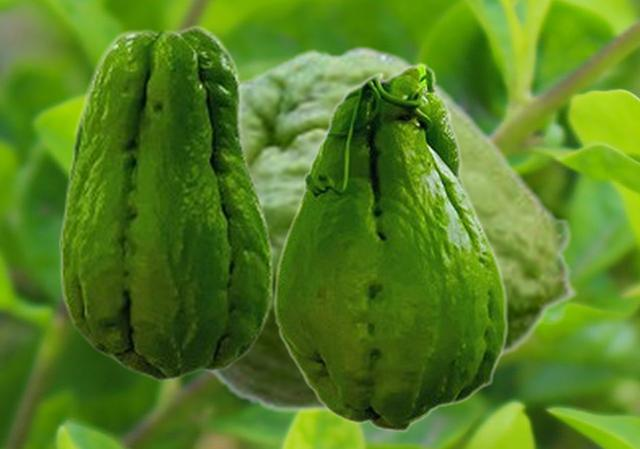sayote: (204, 44, 580, 414), (273, 62, 508, 432), (59, 24, 273, 381)
